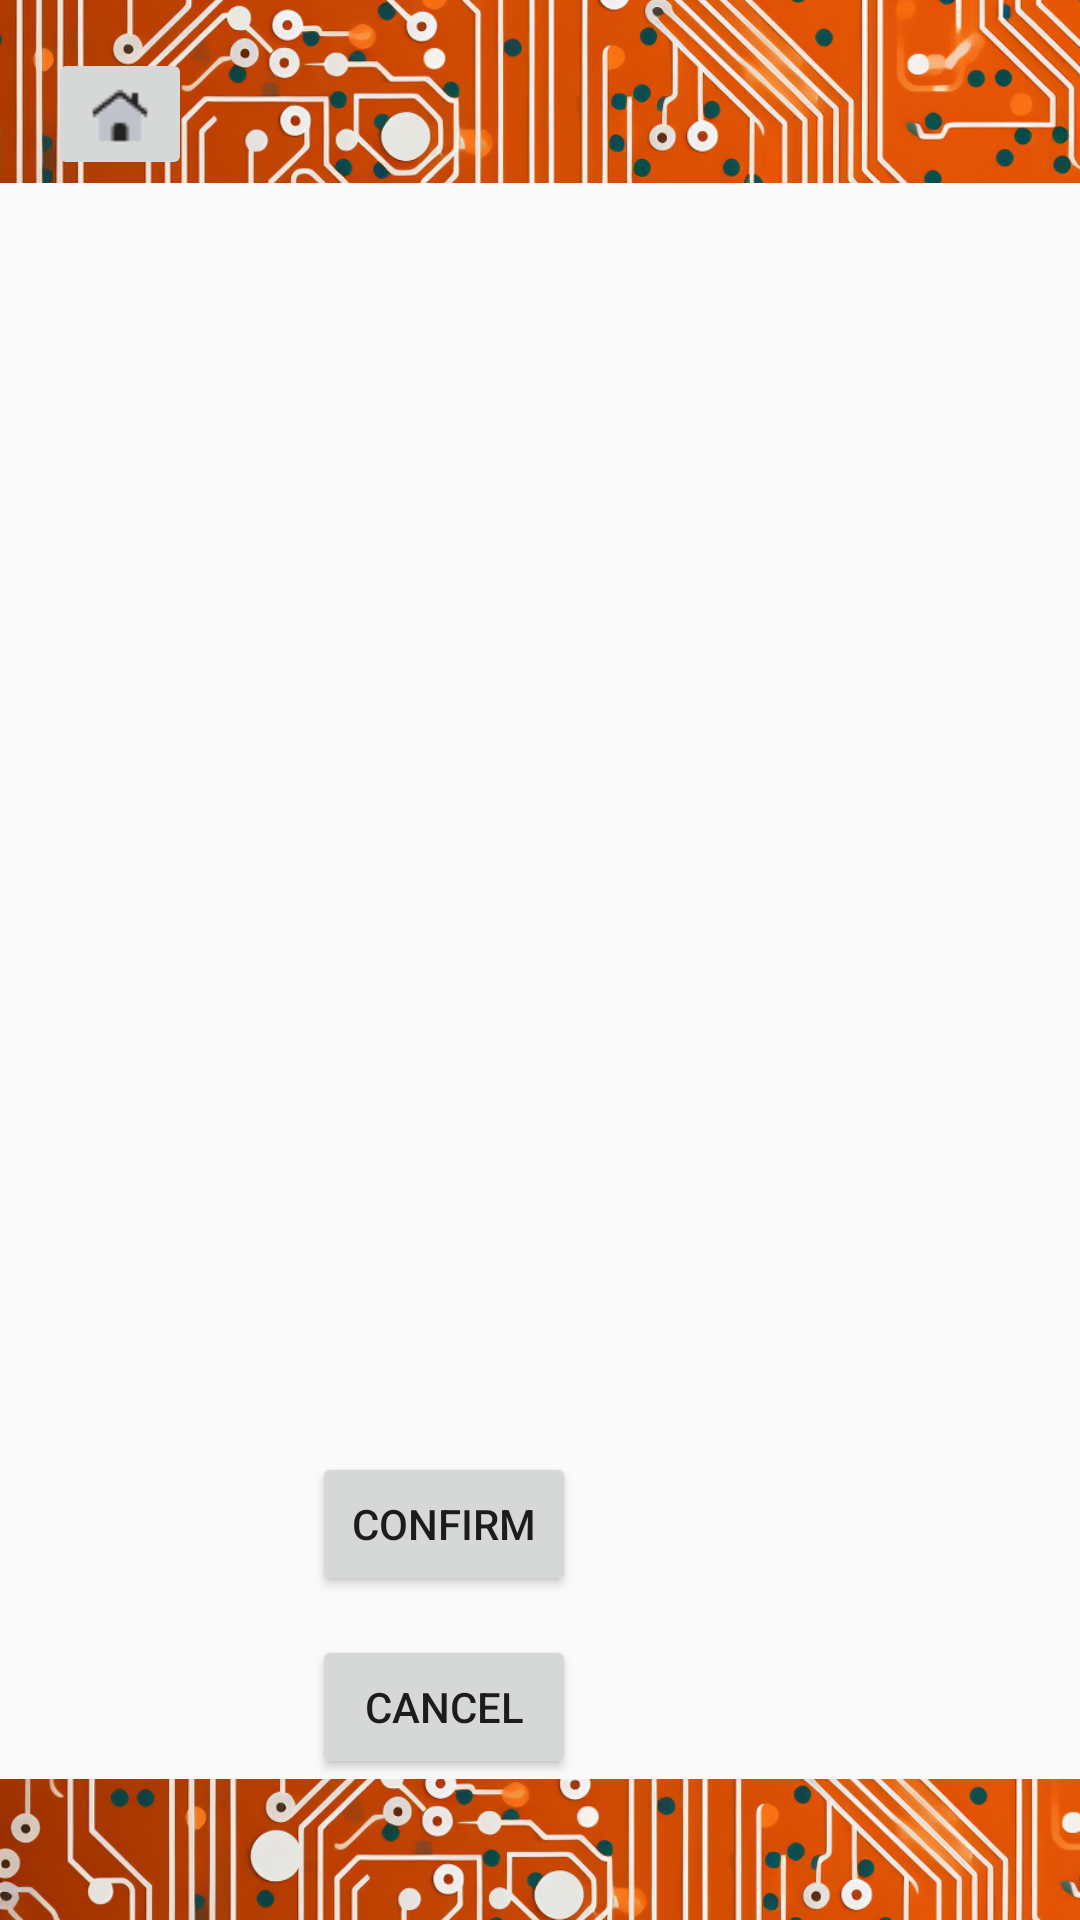

Named icons in this screenshot (1080px x 1920px) and their centers, point (x, y):
home duotone: point (120, 114)
